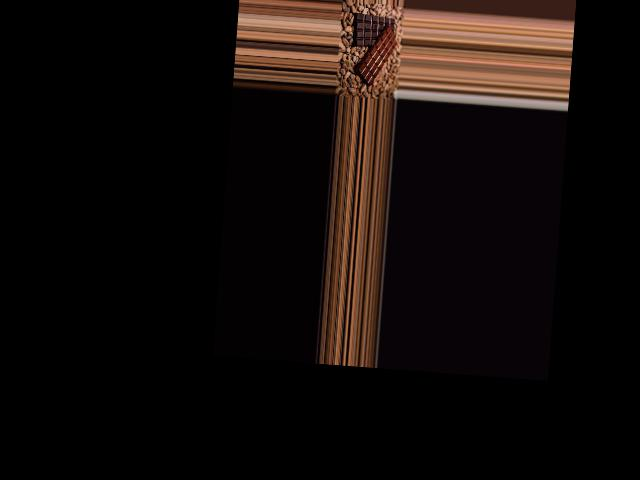chocolate: (349, 8, 397, 49)
